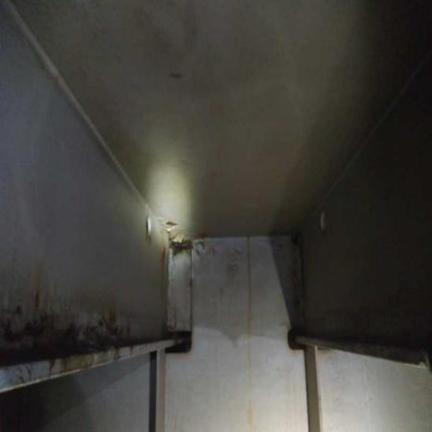besi_tidak_karat: (14, 0, 431, 234), (295, 57, 431, 369)
karat: (0, 308, 191, 389), (270, 232, 304, 336), (170, 234, 192, 249)
